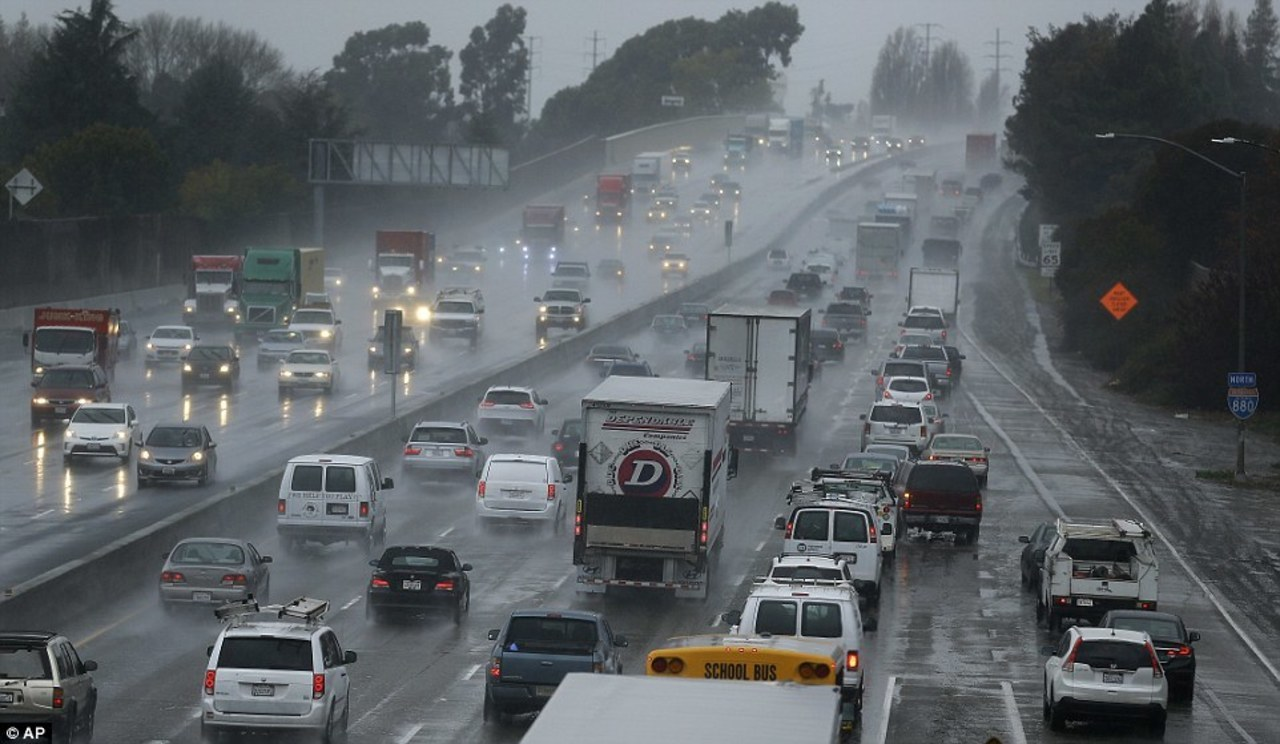car: (199, 605, 354, 743), (483, 609, 616, 719), (1045, 627, 1169, 734), (0, 628, 101, 742), (745, 580, 861, 678), (273, 456, 390, 551), (775, 506, 879, 612), (158, 538, 268, 610), (366, 545, 472, 617), (811, 473, 894, 556), (896, 463, 987, 534), (473, 453, 563, 520), (1113, 611, 1200, 674), (134, 423, 218, 487), (62, 403, 138, 463), (402, 421, 481, 472), (28, 373, 116, 417), (477, 384, 549, 431), (430, 289, 483, 344), (275, 348, 337, 395), (180, 343, 241, 390), (532, 288, 589, 336), (936, 428, 988, 479), (366, 322, 418, 372), (859, 404, 928, 441), (289, 306, 348, 349), (141, 322, 199, 362), (1021, 519, 1054, 579), (250, 328, 302, 364), (575, 344, 642, 371), (822, 302, 869, 337), (909, 344, 954, 379), (442, 247, 487, 280), (884, 379, 932, 409), (782, 269, 823, 298), (650, 313, 692, 340), (813, 330, 845, 363), (868, 359, 922, 378), (554, 261, 588, 288), (319, 266, 351, 293), (660, 251, 692, 277), (647, 234, 677, 256), (836, 286, 873, 303), (597, 258, 624, 281), (715, 181, 744, 201), (766, 248, 791, 270), (688, 199, 712, 219), (669, 151, 693, 170), (893, 331, 934, 342), (645, 205, 666, 222)
truck: (573, 375, 725, 599), (705, 307, 812, 452), (1045, 515, 1156, 615), (235, 240, 321, 332), (25, 302, 115, 375), (371, 225, 435, 302), (183, 255, 239, 325), (907, 264, 956, 327), (851, 225, 900, 287), (521, 204, 563, 264), (627, 155, 668, 198), (594, 174, 629, 222), (768, 116, 805, 155), (882, 195, 919, 233), (742, 107, 768, 149), (723, 136, 754, 163)
